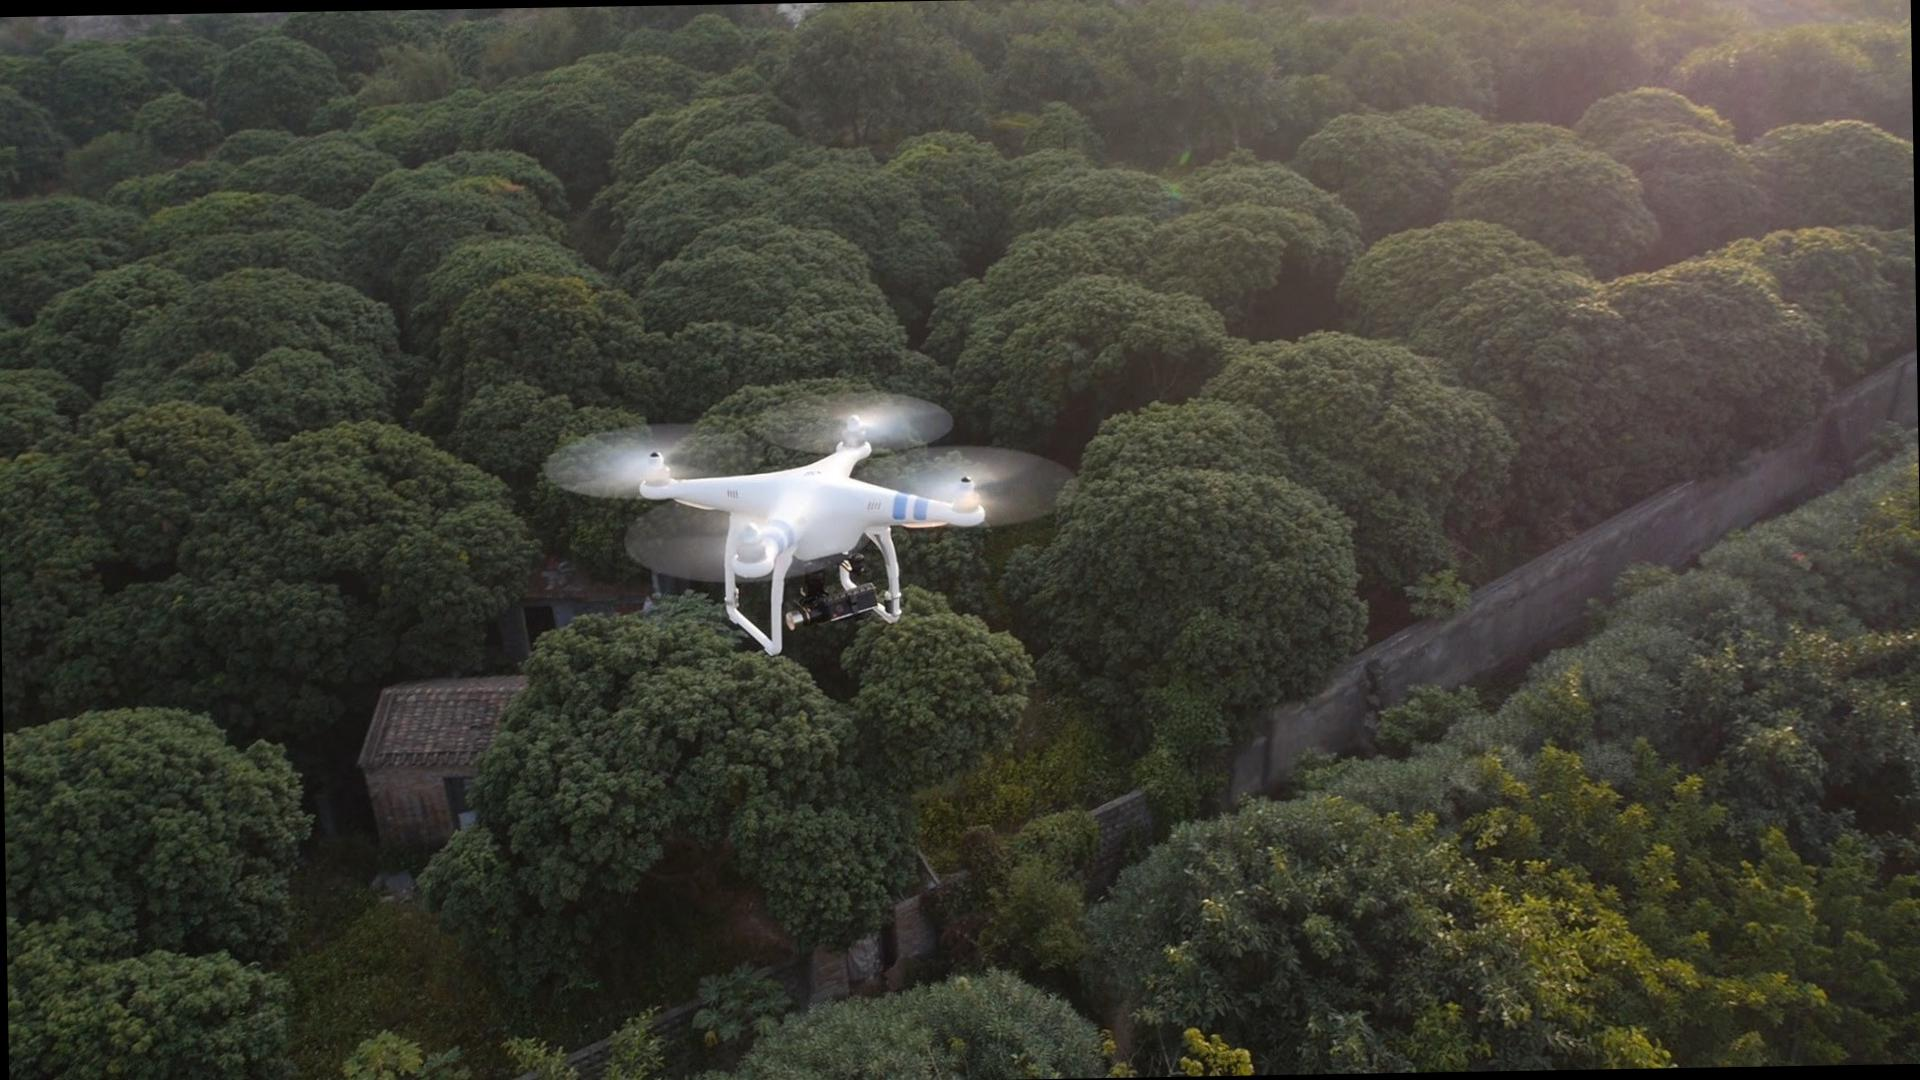drone: (567, 390, 1039, 658)
